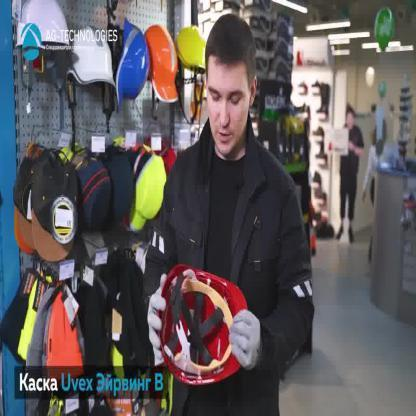gloves: (229, 308, 262, 370), (147, 272, 168, 364)
helmet: (158, 262, 248, 390), (113, 17, 152, 110), (68, 27, 118, 89), (143, 22, 180, 104), (15, 0, 71, 48), (176, 24, 207, 72)
